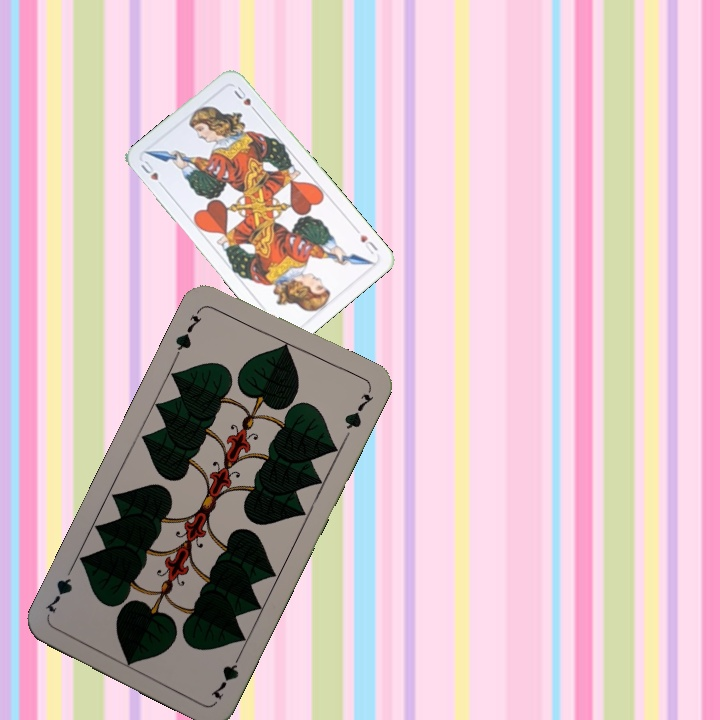G7: (206, 647, 245, 703), (171, 304, 206, 359)
HU: (137, 156, 167, 191), (351, 224, 380, 257)
